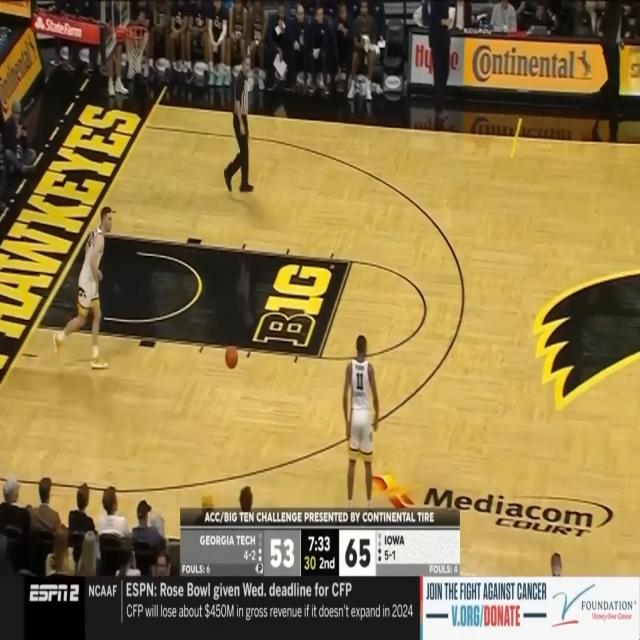Ball: (225, 344, 239, 370)
Hoop: (123, 24, 150, 77)
Period: (319, 554, 335, 571)
Player: (51, 205, 112, 371), (342, 334, 380, 508)
Ref: (222, 54, 252, 193)
Shot Clock: (303, 554, 316, 572)
Team Name: (199, 532, 257, 549), (384, 532, 405, 548)
Team Points: (268, 535, 296, 571), (344, 535, 372, 570)
Time Remaining: (304, 533, 335, 554)
